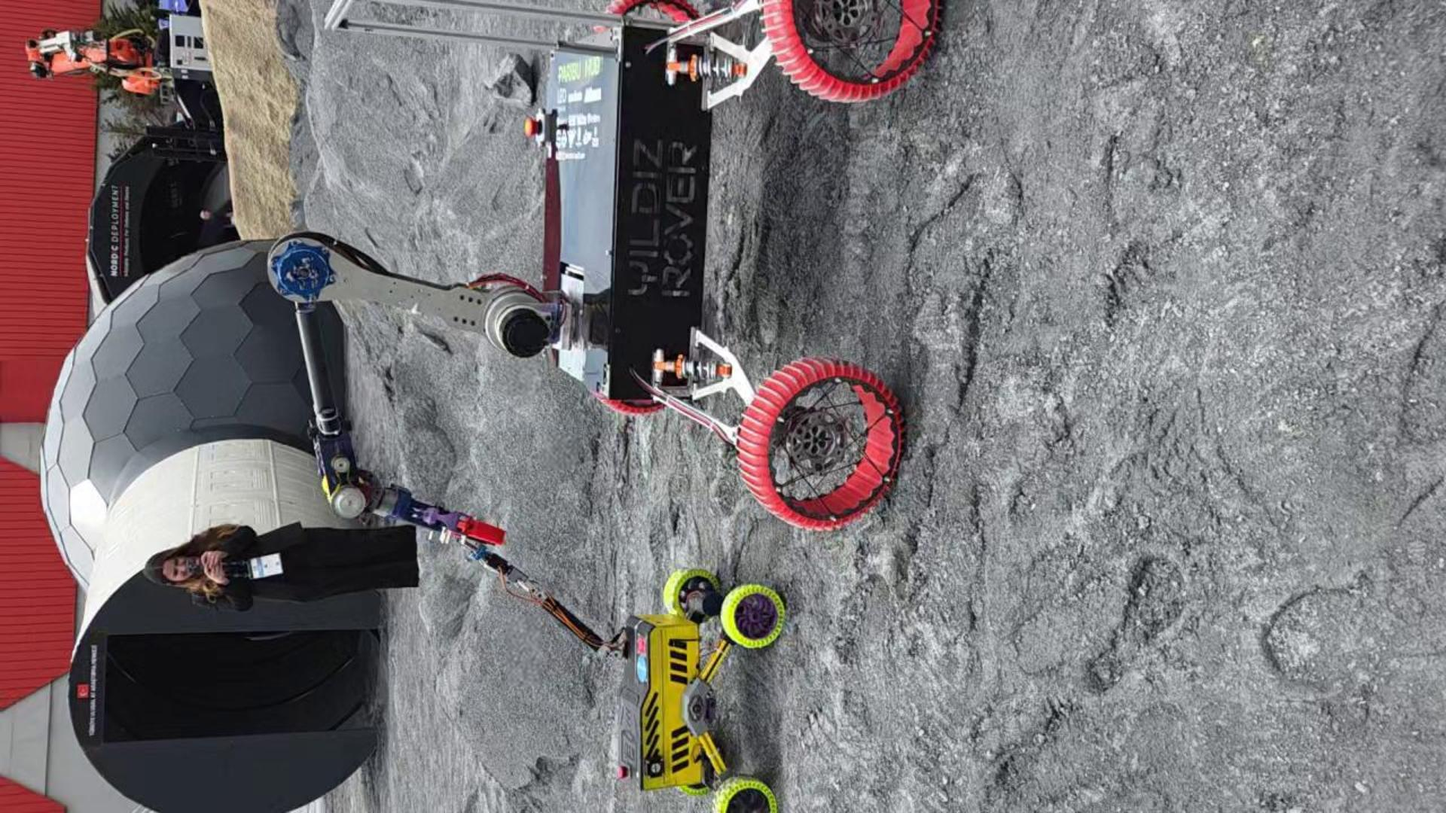rock: (484, 53, 537, 106)
